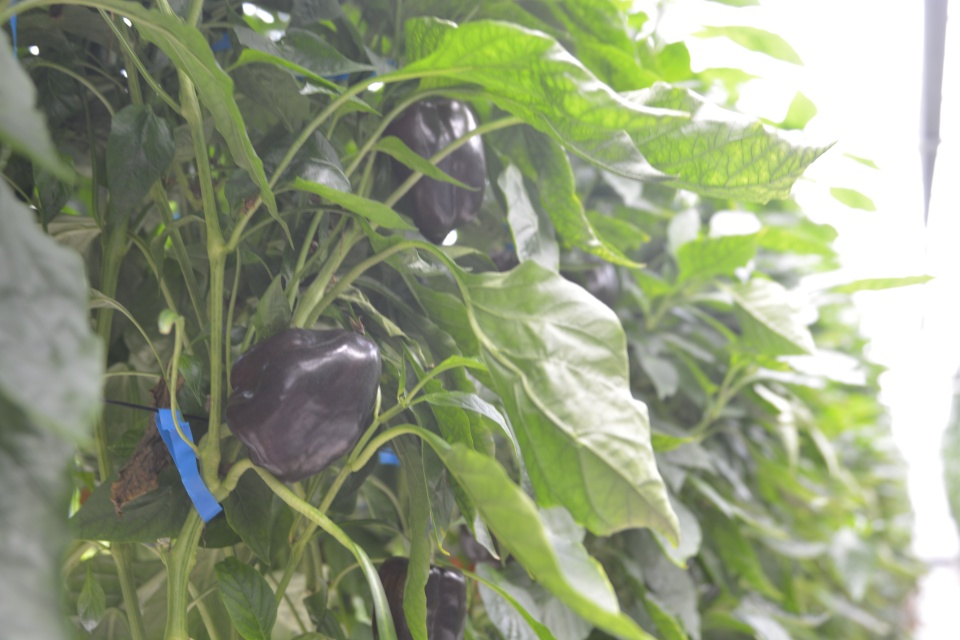fruit: (222, 324, 385, 486), (385, 96, 491, 248), (369, 551, 471, 640)
